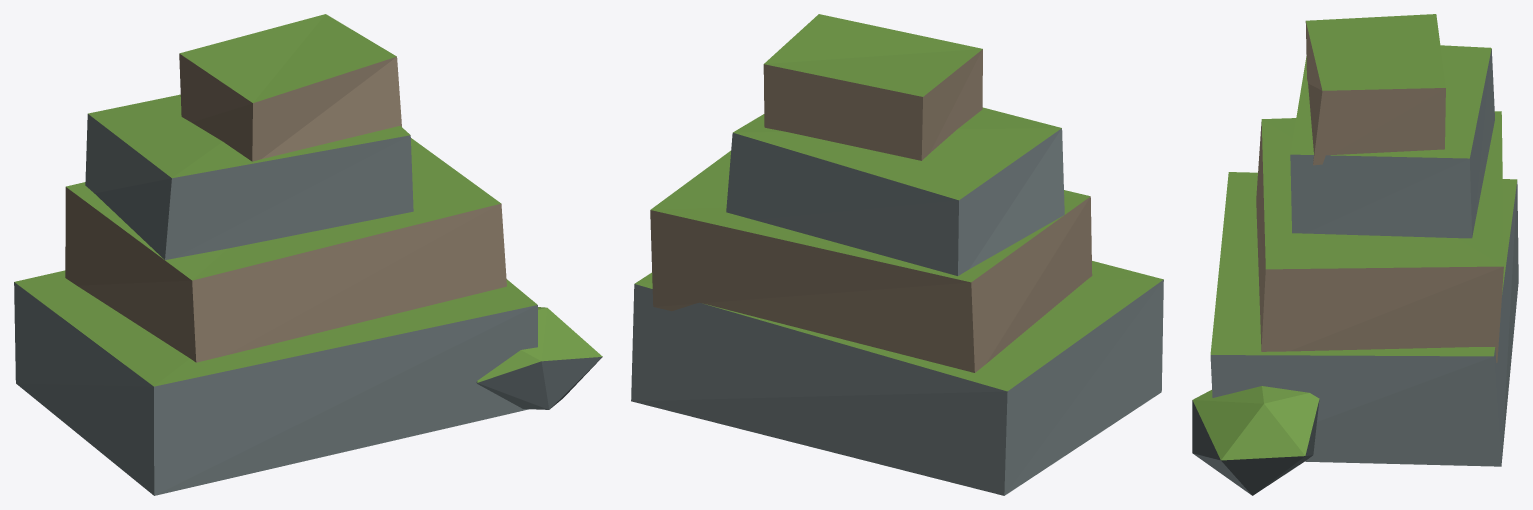
Rendered from world_rocks_ledge.obj.
3 views of the same model, side by side, from view 1: azimuth 30°, elevation 25°; view 2: azimuth 150°, elevation 25°; view 3: azimuth 270°, elevation 25° (orthographic). The views are drawn at different scales.
Visible parts, largest first — view 1: world_rocks_ledge; view 2: world_rocks_ledge; view 3: world_rocks_ledge.
Boxes of the visible parts, <box> form: world_rocks_ledge: <box>14,14,602,495</box>; world_rocks_ledge: <box>631,14,1163,495</box>; world_rocks_ledge: <box>1192,14,1518,495</box>.
Bounding box in the file's own units: 10.59 × 7.9 × 6.83.
